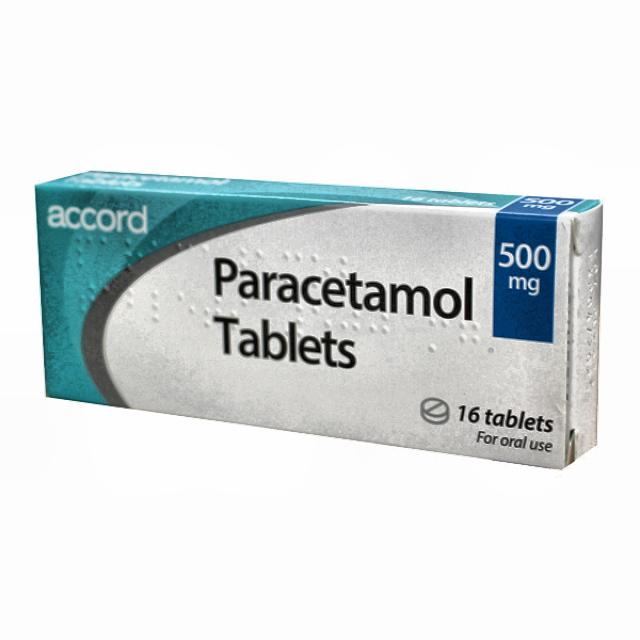Paracetamol: (186, 213, 507, 404)
